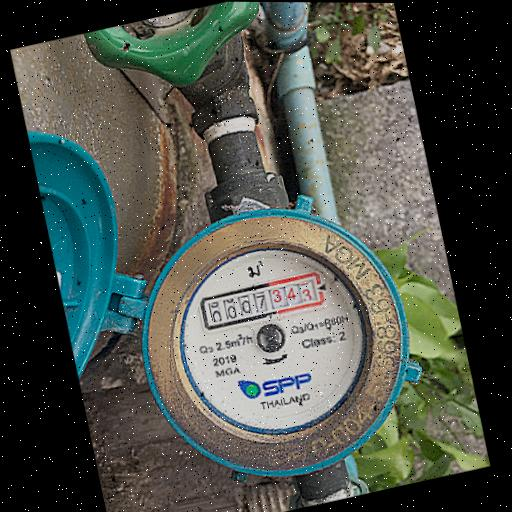0: (237, 295, 252, 317), (208, 302, 223, 323), (224, 298, 238, 320)
3: (298, 282, 315, 303), (270, 288, 285, 310)
4: (284, 285, 300, 306)
7: (254, 291, 268, 314)
border_water_meter_number: (198, 270, 327, 332)
